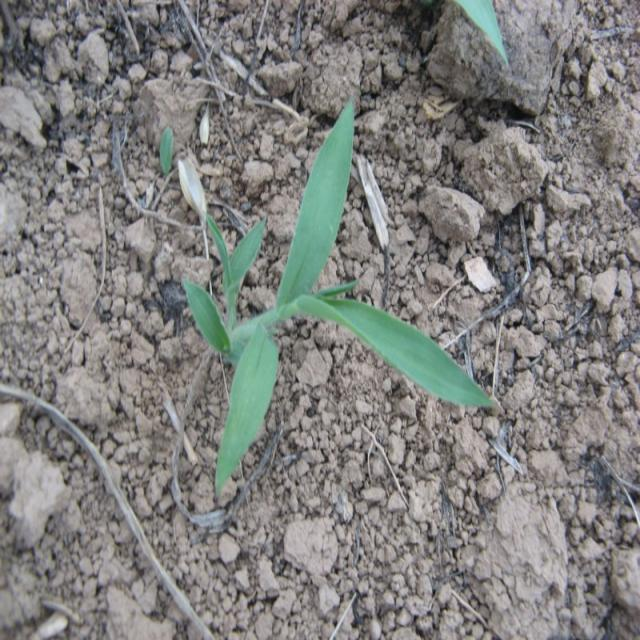bg: (182, 106, 492, 495)
